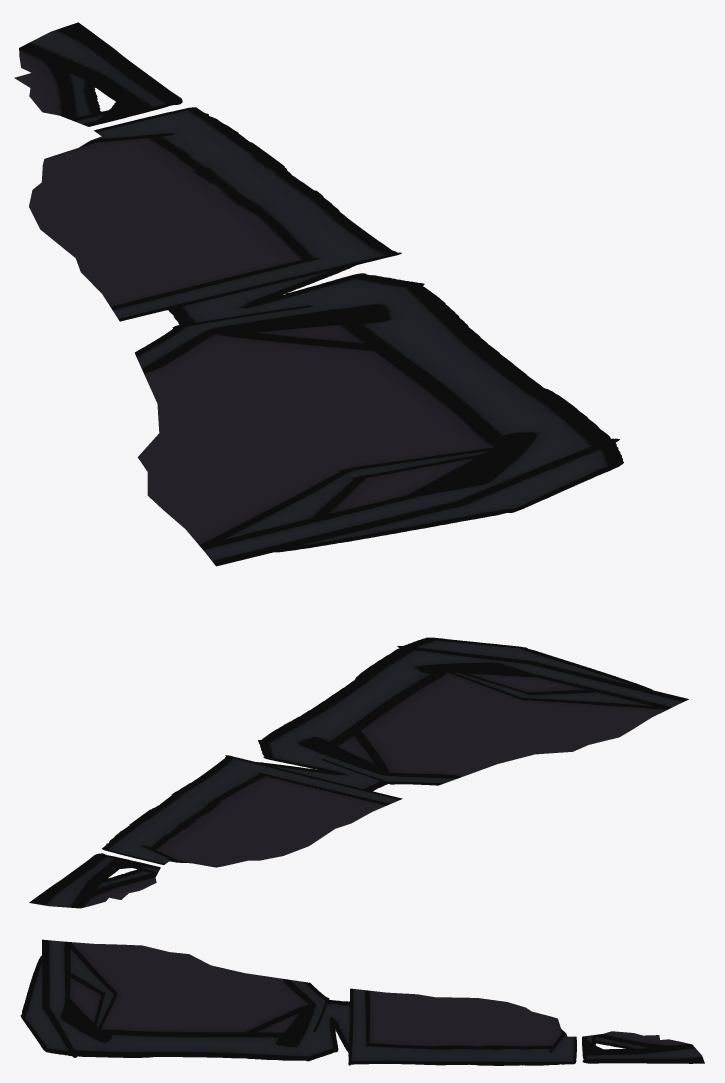
The model's file is Background1.fbx.
The picture shows the model from 3 angles, top to bottom: view 1: azimuth 30°, elevation 25°; view 2: azimuth 150°, elevation 25°; view 3: azimuth 270°, elevation 25°; orthographic projection. The views are drawn at different scales.
Parts seen in each view (by area): view 1: Plane.001; view 2: Plane.001; view 3: Plane.001.
Boxes of the visible parts, x1,y1,x2,y2 form: Plane.001: (14, 22, 623, 566); Plane.001: (29, 637, 688, 908); Plane.001: (20, 939, 704, 1065).
Bounding box in the file's own units: 71.99 × 2.63e-05 × 161.
